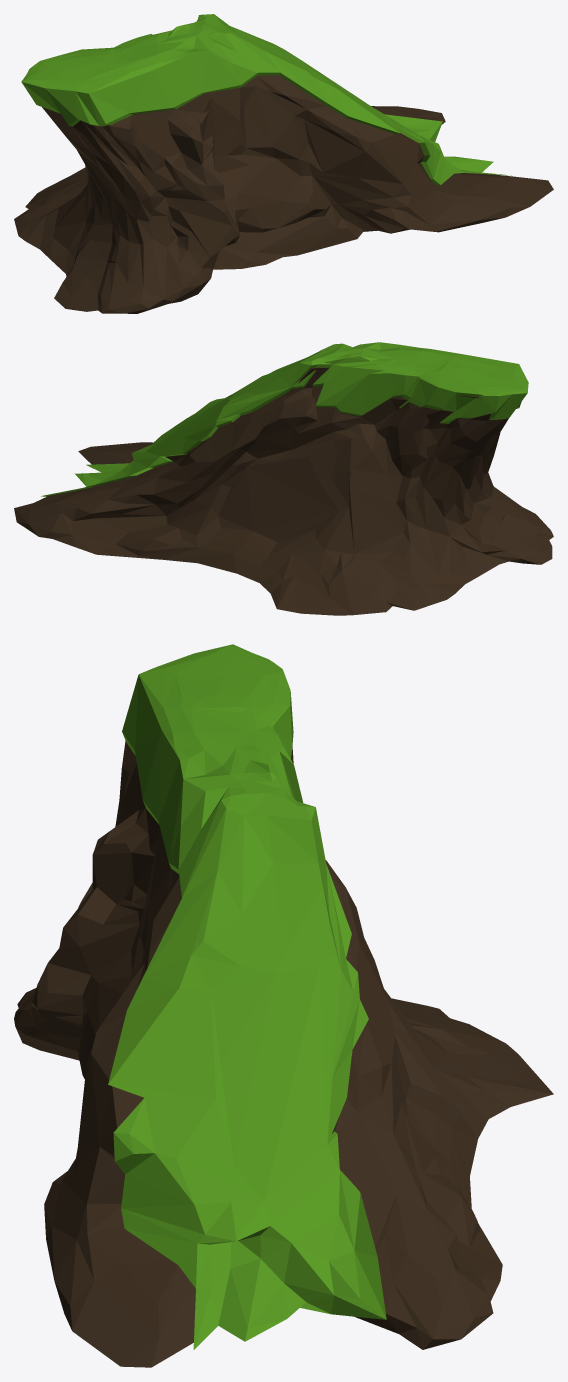
Rendered from M_cliff_grass_02.FBX.
The picture shows the model from 3 angles, top to bottom: view 1: azimuth 30°, elevation 25°; view 2: azimuth 150°, elevation 25°; view 3: azimuth 270°, elevation 25°; orthographic projection. The views are drawn at different scales.
Parts seen in each view (by area): view 1: Object042; view 2: Object042; view 3: Object042.
Part boxes in pixels (x1,y1,x2,y2): Object042: (14,14,553,313); Object042: (14,342,553,615); Object042: (14,644,553,1367).
Bounding box in the file's own units: 2450 × 990 × 1412.
